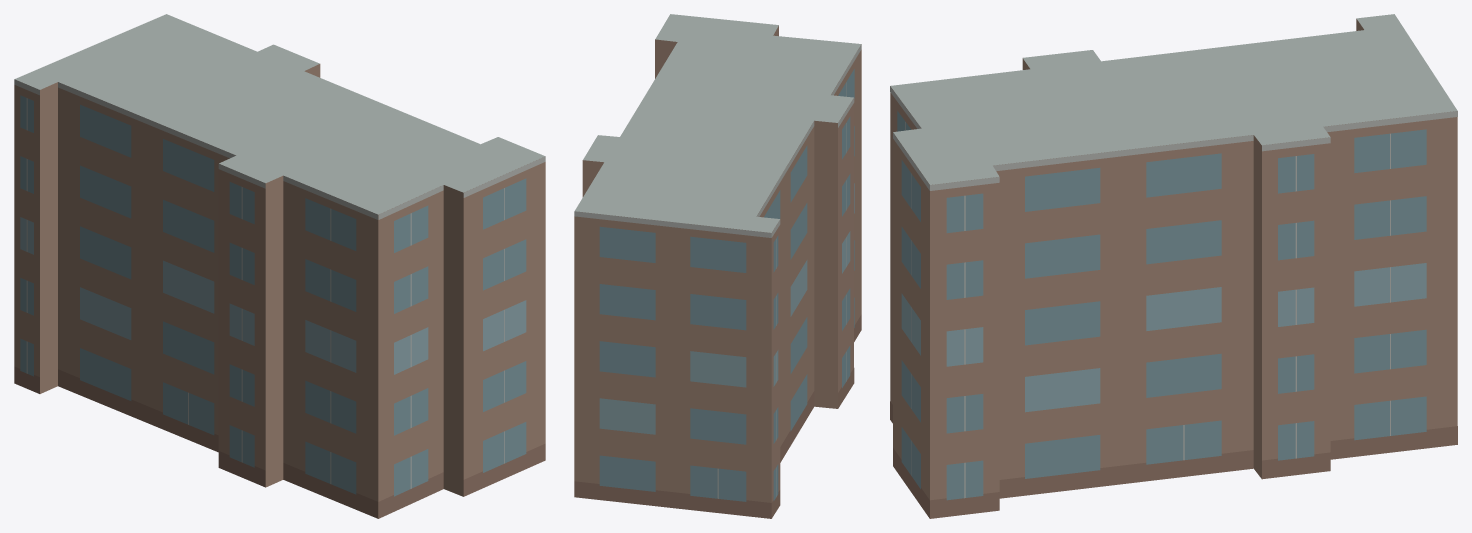
Rendered from survey-upis-32978254.glb.
The picture shows the model from 3 angles, left to right: view 1: azimuth 30°, elevation 25°; view 2: azimuth 150°, elevation 25°; view 3: azimuth 270°, elevation 25°; orthographic projection. The views are drawn at different scales.
Parts seen in each view (by area): view 1: survey-upis-32978254.tmp; view 2: survey-upis-32978254.tmp; view 3: survey-upis-32978254.tmp.
Part boxes in pixels (bbox=[...]): survey-upis-32978254.tmp: bbox=[14, 14, 545, 518]; survey-upis-32978254.tmp: bbox=[574, 14, 861, 518]; survey-upis-32978254.tmp: bbox=[890, 14, 1457, 518].
Bounding box in the file's own units: 14.84 × 13.5 × 20.81.
